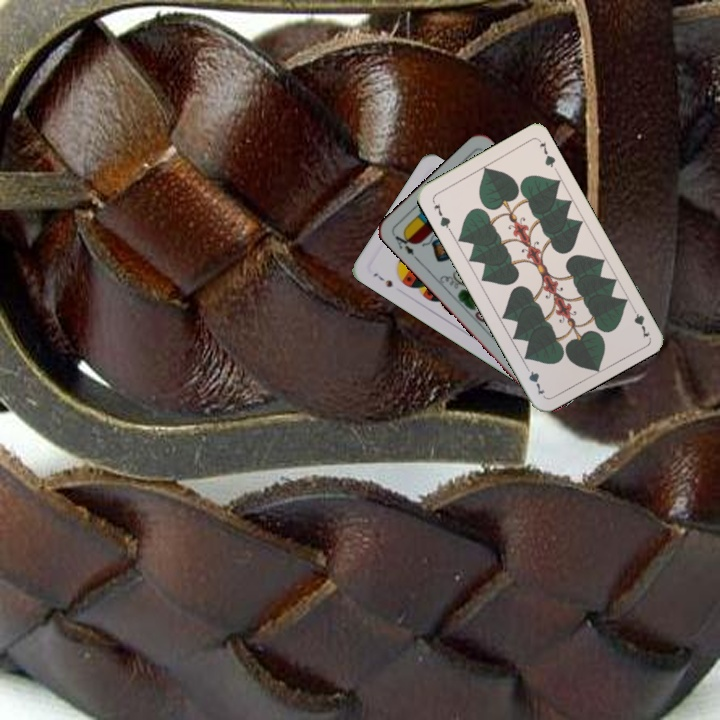EA: (389, 229, 421, 263)
G7: (627, 301, 652, 341), (428, 196, 454, 234)
S7: (369, 269, 395, 290)
